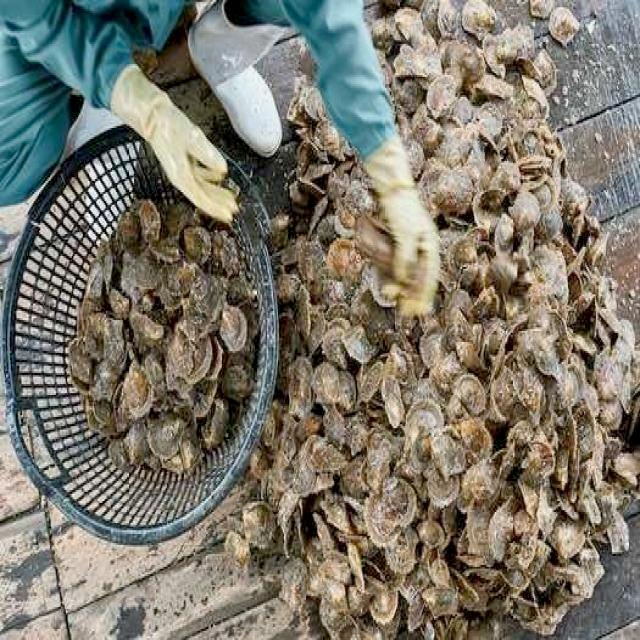Oyster-Closed: (182, 266, 228, 344), (493, 119, 571, 165), (118, 364, 162, 430), (272, 556, 318, 614), (399, 402, 446, 456), (164, 196, 218, 239), (534, 308, 568, 372), (419, 469, 468, 513), (392, 10, 438, 56), (312, 552, 356, 600), (272, 492, 304, 558), (511, 364, 553, 414), (354, 211, 394, 263), (530, 246, 564, 304), (206, 227, 243, 279), (532, 478, 562, 542), (376, 476, 414, 526), (241, 503, 279, 553), (440, 43, 482, 87), (508, 596, 554, 636), (423, 348, 469, 388), (518, 329, 564, 369), (437, 168, 477, 214), (365, 494, 397, 550), (600, 498, 632, 554), (319, 600, 363, 640), (58, 339, 96, 385), (341, 323, 381, 365), (366, 587, 404, 631), (384, 76, 428, 114), (522, 442, 556, 491), (453, 1, 495, 40), (428, 437, 467, 478), (126, 259, 170, 295), (363, 444, 399, 488), (450, 522, 480, 574), (304, 438, 342, 478), (325, 238, 363, 278), (310, 518, 346, 560), (448, 567, 484, 609), (461, 508, 489, 562), (464, 458, 498, 502), (312, 118, 346, 162), (414, 178, 448, 222), (488, 504, 512, 566), (377, 377, 408, 425), (284, 360, 312, 412), (148, 417, 186, 455), (501, 22, 537, 62), (73, 260, 115, 294), (608, 449, 640, 493), (425, 73, 457, 117), (389, 526, 417, 576), (608, 319, 636, 369), (71, 308, 117, 338), (342, 181, 372, 227), (452, 372, 488, 410), (552, 524, 586, 564), (298, 241, 332, 281), (471, 189, 505, 229), (392, 47, 432, 81), (461, 422, 493, 464), (493, 443, 532, 477), (416, 105, 446, 149), (480, 34, 510, 78), (574, 406, 600, 456), (292, 284, 318, 334), (221, 366, 257, 402), (130, 308, 168, 342), (82, 366, 120, 400), (518, 76, 556, 110), (443, 130, 477, 168), (467, 75, 513, 103), (421, 586, 461, 618), (548, 564, 588, 596), (460, 611, 504, 640), (101, 319, 131, 361), (344, 412, 374, 454), (311, 360, 337, 408), (338, 456, 369, 496), (83, 402, 117, 438), (222, 530, 254, 568), (179, 225, 210, 264), (354, 362, 384, 402), (300, 197, 330, 236), (482, 344, 516, 378), (445, 396, 477, 432), (343, 543, 369, 587), (386, 346, 416, 384), (308, 308, 329, 362), (444, 309, 471, 351), (403, 561, 431, 601), (497, 314, 525, 354), (509, 190, 537, 230), (136, 199, 162, 242), (410, 377, 446, 408), (328, 320, 354, 362), (398, 598, 432, 630), (544, 8, 578, 40), (173, 436, 203, 472), (530, 44, 560, 80), (555, 359, 577, 408), (418, 514, 446, 552), (562, 192, 586, 236), (290, 455, 316, 495), (222, 311, 248, 350), (330, 370, 354, 412), (364, 304, 392, 340), (302, 87, 330, 123), (472, 124, 500, 160), (117, 211, 143, 249), (123, 424, 147, 464), (321, 502, 353, 532), (488, 254, 522, 282), (527, 537, 553, 573), (416, 330, 442, 366), (264, 212, 300, 238), (430, 1, 454, 40), (165, 262, 197, 291), (260, 410, 284, 448), (516, 478, 540, 516), (292, 176, 330, 200), (570, 330, 600, 360), (491, 162, 521, 192), (138, 355, 166, 387), (427, 554, 455, 586), (321, 408, 349, 440), (256, 472, 282, 506), (478, 320, 504, 354), (460, 220, 494, 246), (580, 384, 602, 424), (598, 398, 626, 429), (448, 236, 472, 272), (497, 369, 519, 408), (607, 362, 629, 400), (493, 216, 515, 254), (502, 417, 534, 443), (443, 287, 475, 313), (394, 314, 426, 340), (405, 144, 431, 176), (517, 57, 549, 83), (513, 538, 537, 572), (150, 238, 180, 265), (225, 273, 251, 304), (558, 408, 578, 448), (100, 436, 128, 464), (600, 306, 628, 334), (430, 614, 460, 640), (474, 286, 498, 318), (586, 232, 610, 264), (474, 252, 494, 290), (352, 287, 373, 323), (500, 292, 526, 321), (419, 152, 448, 178), (582, 492, 604, 526), (526, 0, 560, 22), (567, 294, 595, 320), (367, 19, 393, 47), (574, 461, 592, 501), (514, 156, 558, 172), (464, 146, 486, 178), (330, 214, 354, 243), (160, 448, 182, 479), (458, 342, 480, 373), (272, 438, 292, 472), (418, 311, 444, 337), (473, 102, 499, 128), (492, 572, 520, 596), (554, 490, 576, 520), (538, 212, 558, 244), (314, 214, 336, 243), (108, 286, 132, 312), (451, 94, 475, 120), (513, 270, 535, 298), (299, 162, 333, 180), (333, 529, 371, 545), (569, 247, 591, 273), (348, 583, 368, 611), (512, 509, 532, 537), (368, 268, 384, 302), (558, 448, 570, 492), (628, 396, 640, 440), (326, 281, 348, 305), (248, 452, 266, 481), (329, 160, 358, 178), (500, 476, 520, 502), (298, 418, 322, 439), (280, 270, 298, 298), (584, 211, 602, 239), (544, 408, 560, 438), (296, 128, 320, 148), (339, 496, 367, 512), (568, 272, 584, 300), (628, 360, 640, 396), (595, 326, 611, 350), (556, 237, 574, 256)
Oyster-Open: (168, 321, 227, 385), (188, 391, 230, 442), (454, 260, 480, 296), (104, 250, 126, 290), (291, 140, 317, 168)
